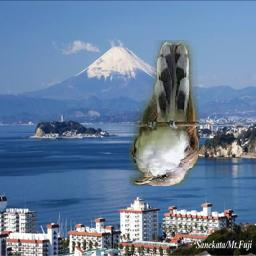Cuckoo: (129, 40, 199, 186)
